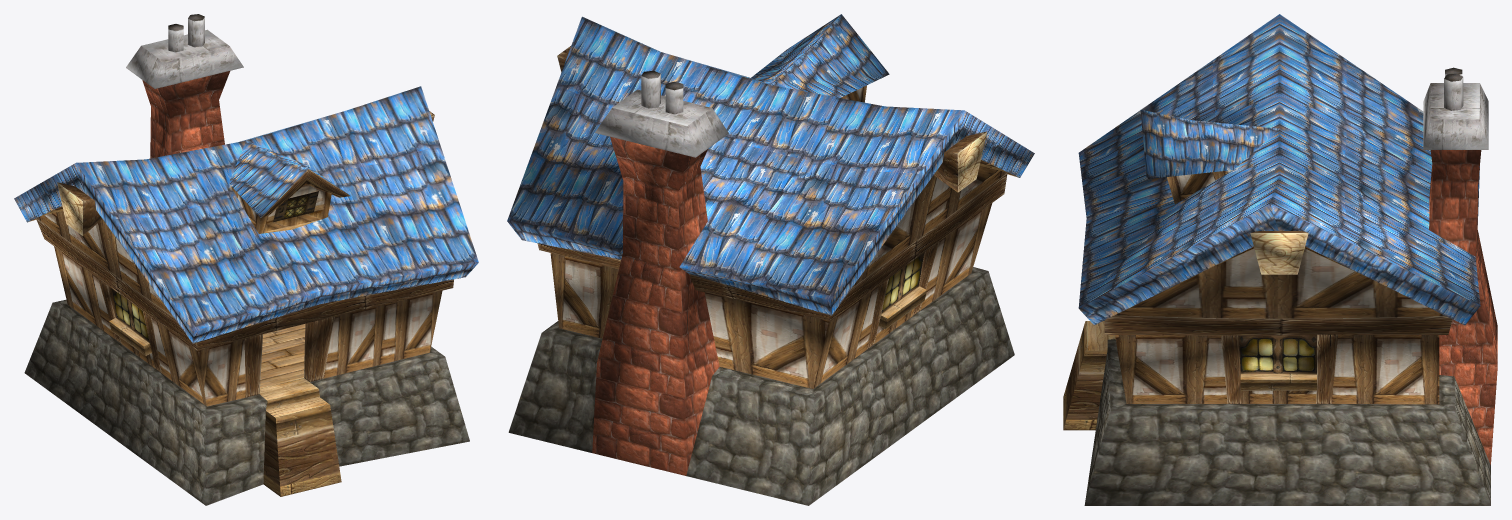
The model's file is farm_set1.obj.
The picture shows the model from 3 angles, left to right: view 1: azimuth 30°, elevation 25°; view 2: azimuth 150°, elevation 25°; view 3: azimuth 270°, elevation 25°; orthographic projection. The views are drawn at different scales.
Parts seen in each view (by area): view 1: exterior3, exterior1, exterior5, exterior7, exterior0, exterior2, interior0, exterior8, exterior6, exterior4; view 2: exterior3, exterior1, exterior0, exterior7, exterior5, exterior2, exterior8, exterior4; view 3: exterior3, exterior1, exterior7, exterior5, exterior0, exterior2, exterior8, exterior4.
Part boxes in pixels (x1,y1,x2,y2): exterior3: (14, 86, 478, 343); exterior1: (24, 299, 469, 505); exterior5: (29, 111, 453, 496); exterior7: (37, 184, 442, 406); exterior0: (142, 71, 230, 158); exterior2: (126, 14, 243, 88); interior0: (260, 324, 305, 388); exterior8: (111, 191, 318, 341); exterior6: (259, 184, 331, 233); exterior4: (57, 182, 82, 235); exterior3: (507, 14, 1034, 315); exterior1: (508, 267, 1014, 505); exterior0: (592, 136, 719, 475); exterior7: (550, 85, 1007, 388); exterior5: (537, 46, 1018, 348); exterior2: (595, 70, 728, 157); exterior8: (881, 253, 924, 313); exterior4: (957, 132, 986, 192); exterior3: (1078, 14, 1480, 325); exterior1: (1084, 320, 1490, 505); exterior7: (1115, 170, 1445, 404); exterior5: (1063, 231, 1452, 430); exterior0: (1429, 150, 1497, 465); exterior2: (1423, 67, 1488, 149); exterior8: (1238, 334, 1316, 373); exterior4: (1250, 233, 1308, 274).
Size of the model in its own units: 18.87 by 16.88 by 18.02.
14 materials, 14 textured.
